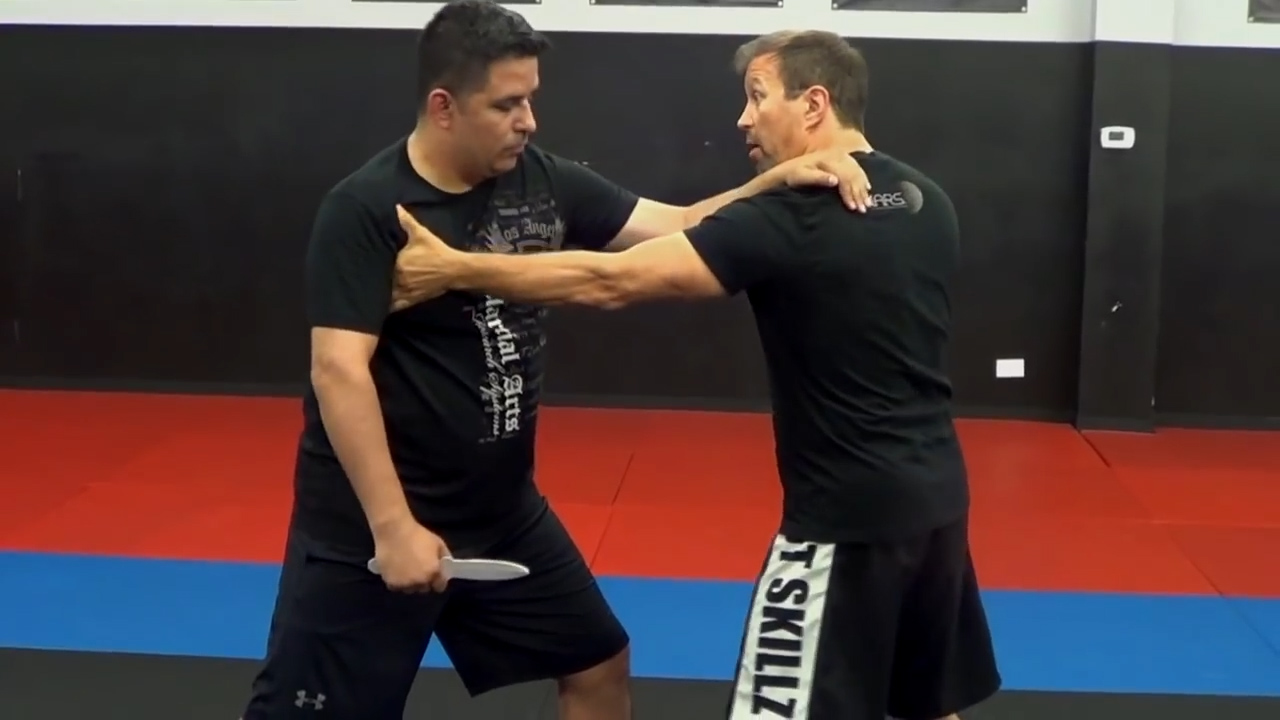knife: (364, 544, 534, 594)
